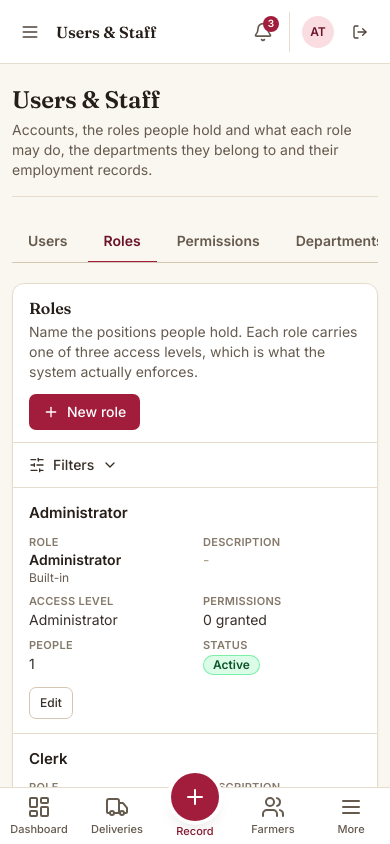
users and staff (tabs) › creates a custom role and protects built-in ones
Click the button "New role". click: (85, 412)
box: 29,394 -> 140,430
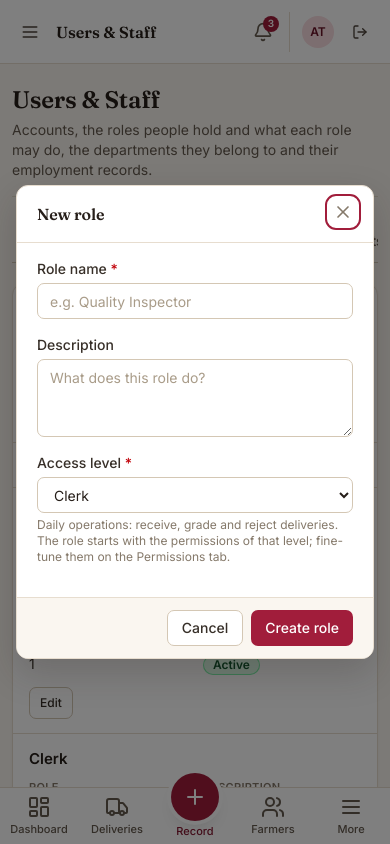
Type "Deputy" into the field labelled "Role name *". click: (195, 301)
box: 37,283 -> 353,319
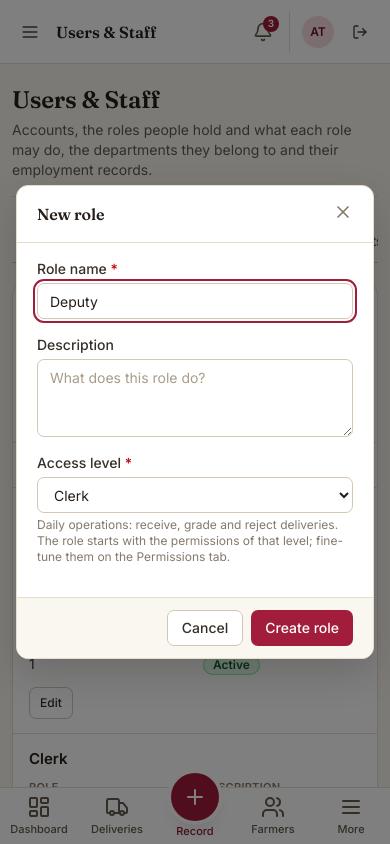
Select "Supervisor" in the dropdown labelled "Access level *". click: (195, 495)
box: 37,477 -> 353,513
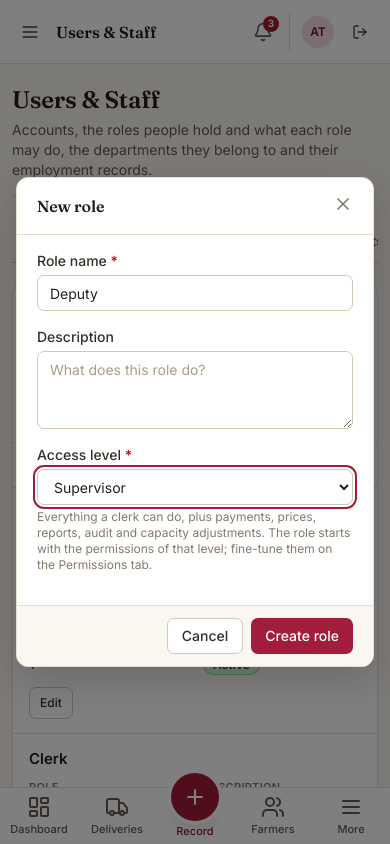
Result: the text "payments, prices, reports" is shown at 37,509 -> 350,572
Click the button "Create role". click: (302, 636)
box: 251,618 -> 353,654
(page scrolled)
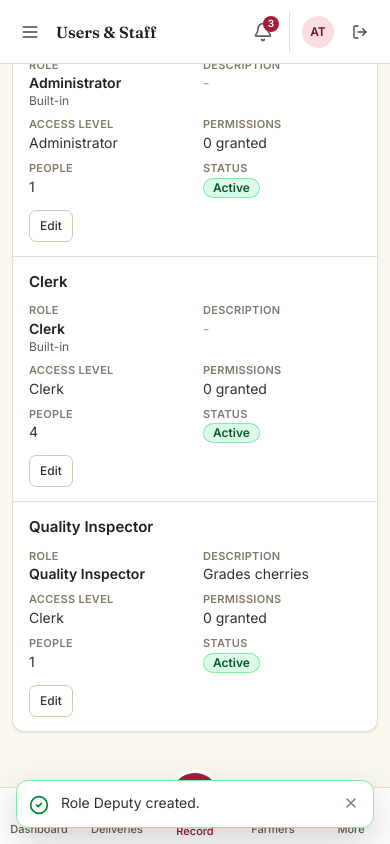
Click the button with aria-label "Edit Clerk". click: (51, 471)
box: 29,455 -> 73,487
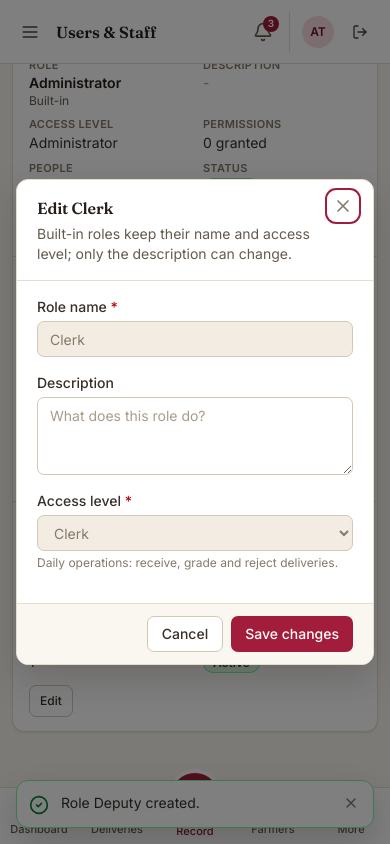
Result: the field labelled "Role name *" is disabled at 37,321 -> 353,357
Result: the dropdown labelled "Access level *" is disabled at 37,515 -> 353,551
